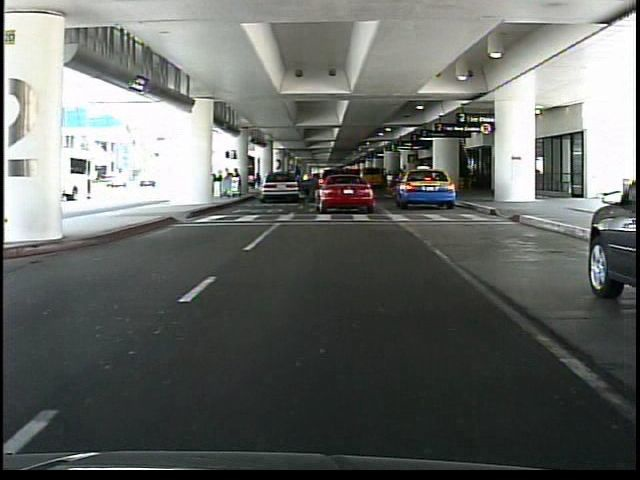person: (291, 165, 306, 202)
